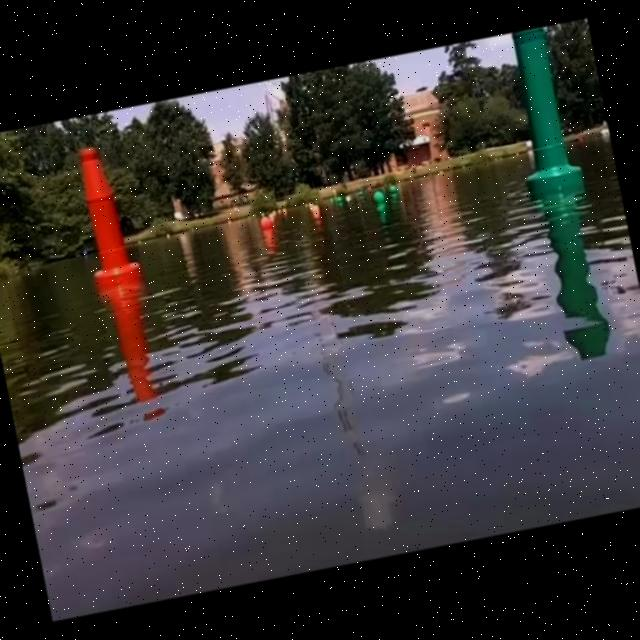buoy: (256, 213, 271, 230), (372, 188, 384, 205), (310, 204, 322, 220)
